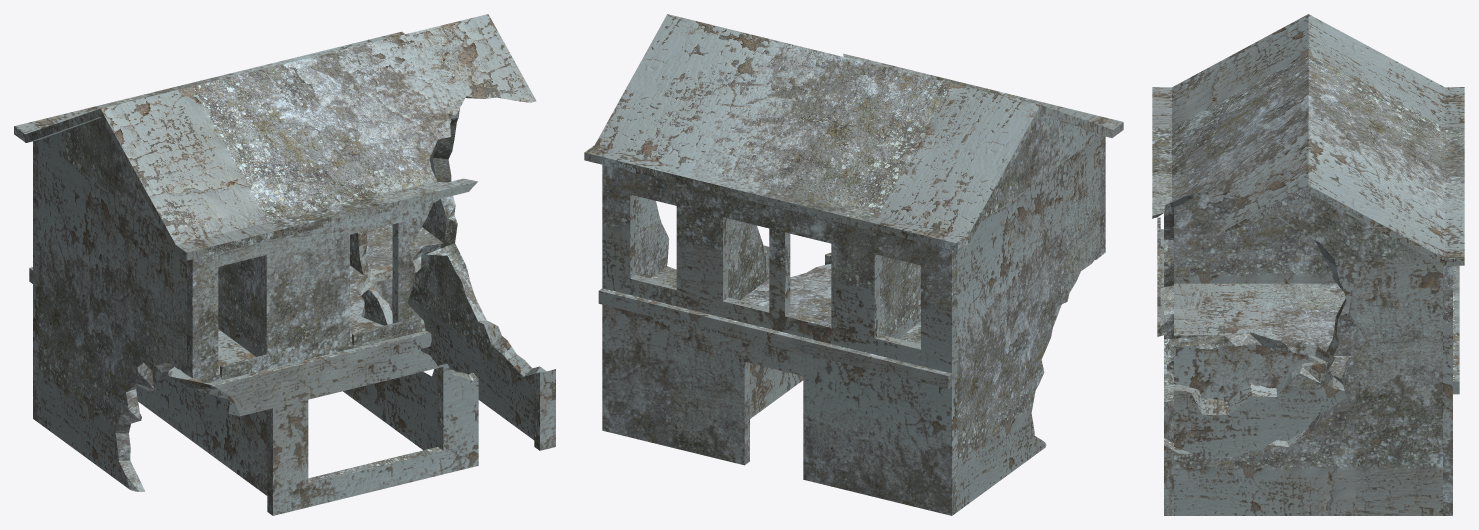
The model's file is nha xa 2.fbx.
3 views of the same model, side by side, from view 1: azimuth 30°, elevation 25°; view 2: azimuth 150°, elevation 25°; view 3: azimuth 270°, elevation 25° (orthographic). The views are drawn at different scales.
Visible parts, largest first — view 1: cube.012, cube.001, cube, cube.002, cube.008, cube.009, cube.011, cube.004, cube.003, cube.005, cube.006; view 2: cube.003, cube.012, cube.001, cube.010, cube.009, cube.011, cube.008, cube.002, cube; view 3: cube.012, cube.002, cube.008, cube.011, cube.009, cube, cube.003, cube.010, cube.004.
Boxes of the visible parts, x1,y1,x2,y2 form: cube.012: [14, 14, 536, 260]; cube.001: [38, 118, 186, 491]; cube: [187, 198, 555, 515]; cube.002: [392, 108, 546, 439]; cube.008: [136, 256, 267, 495]; cube.009: [343, 230, 456, 450]; cube.011: [160, 224, 447, 399]; cube.004: [210, 330, 431, 395]; cube.003: [33, 140, 392, 422]; cube.005: [220, 354, 270, 376]; cube.006: [352, 322, 401, 344]; cube.003: [602, 165, 957, 515]; cube.012: [584, 14, 1123, 251]; cube.001: [957, 114, 1100, 511]; cube.010: [598, 288, 951, 388]; cube.009: [728, 218, 803, 418]; cube.011: [650, 264, 920, 344]; cube.008: [880, 255, 920, 338]; cube.002: [635, 196, 669, 278]; cube: [763, 135, 1105, 278]; cube.012: [1152, 14, 1464, 265]; cube.002: [1174, 192, 1442, 515]; cube.008: [1174, 195, 1336, 401]; cube.011: [1174, 283, 1350, 390]; cube.009: [1174, 240, 1357, 460]; cube: [1164, 207, 1173, 515]; cube.003: [1443, 265, 1452, 515]; cube.010: [1453, 265, 1459, 394]; cube.004: [1157, 229, 1163, 336].
Bounding box in the file's own units: 754 × 690 × 581.
1 material, 1 textured.
